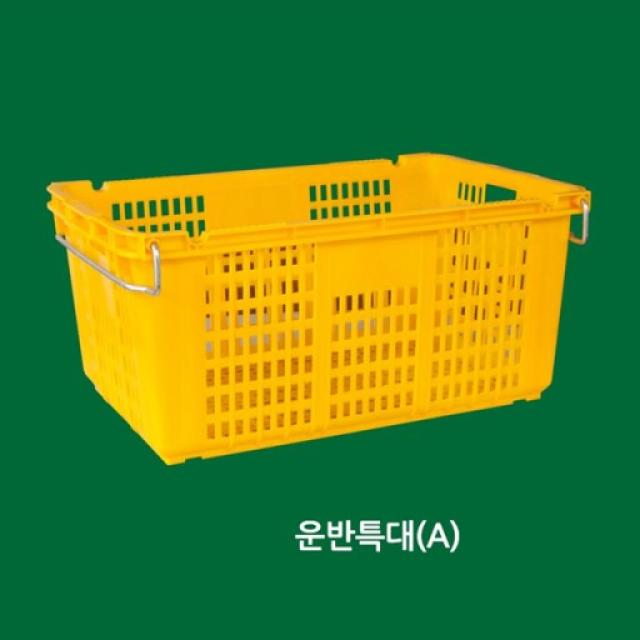basket: (46, 136, 614, 474)
